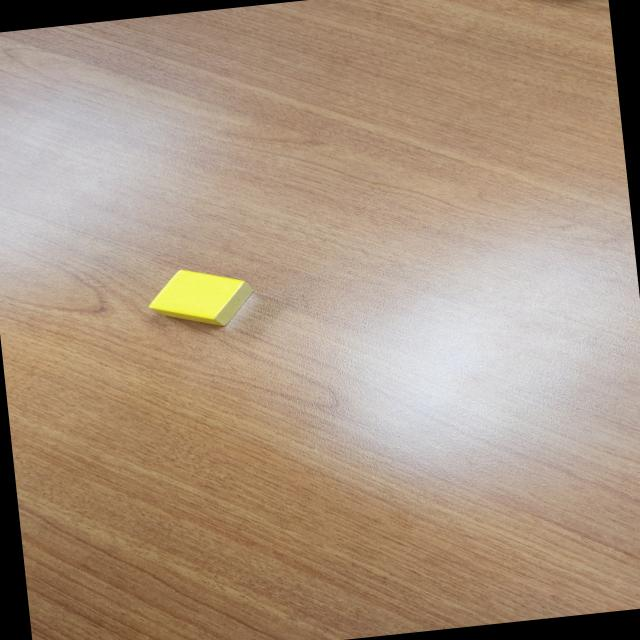yellow: (145, 262, 257, 332)
